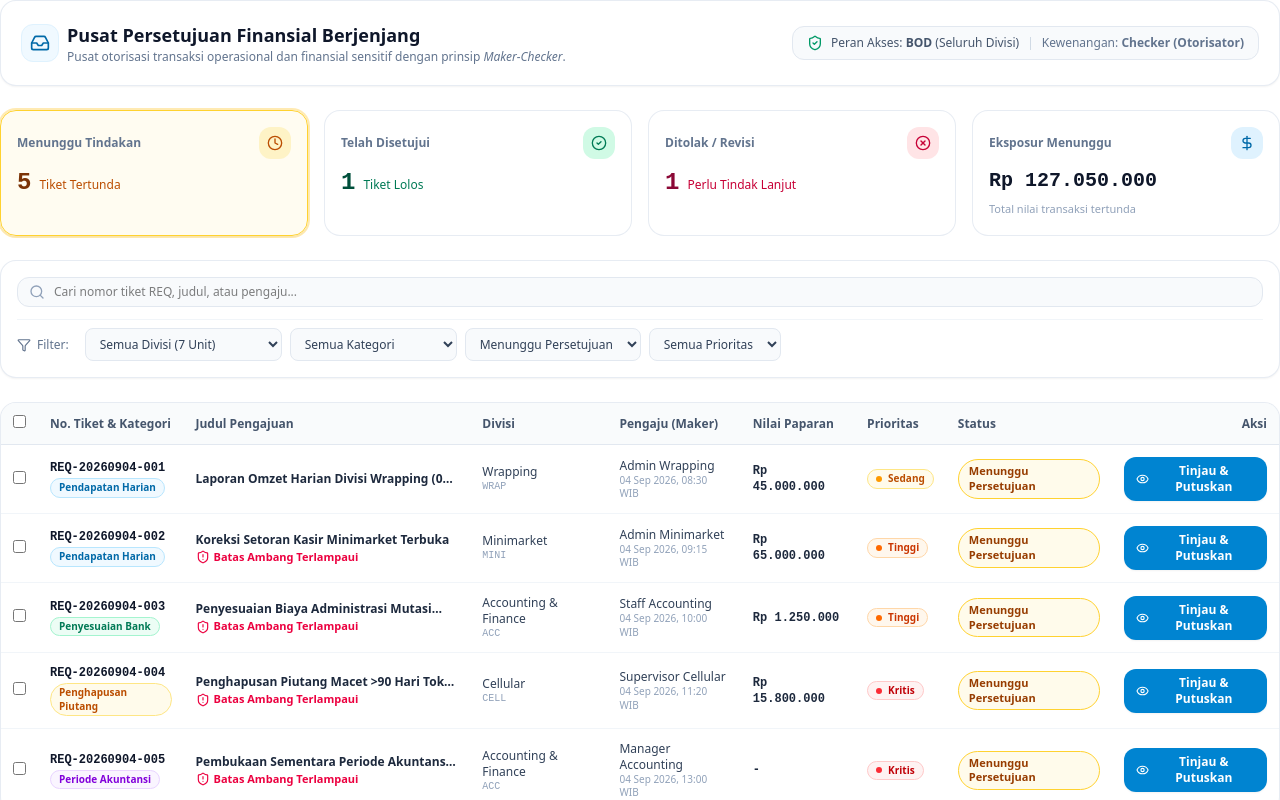
it: Fase 8: Pusat Persetujuan Finansial Berjenjang (ISSUE-26) › ApprovalInboxCentral Component › filters requests by search keyword
Type "Toko Berkah" into the field with test id "approval-search-input" at (640, 292), box [17,277,1263,307]
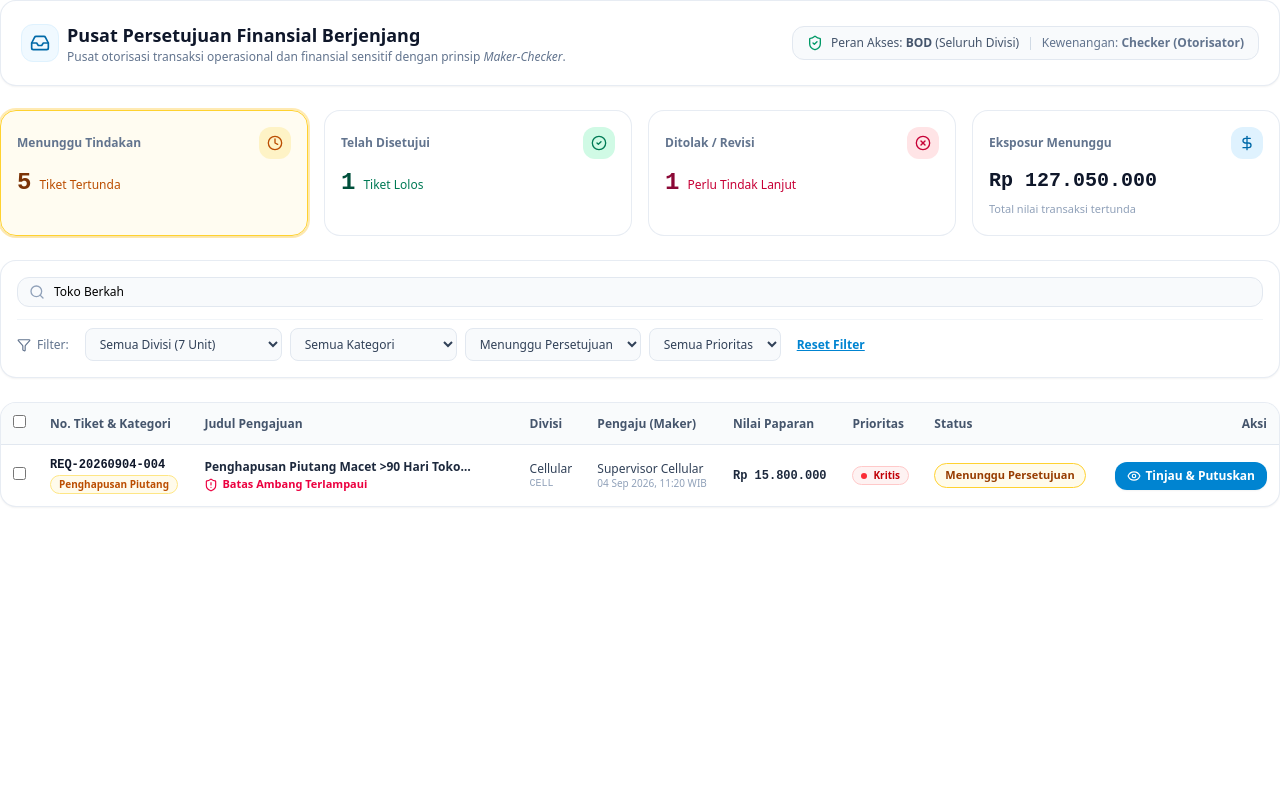
Check: the text "REQ-20260904-004" is shown, box [50,457,180,473]
Check: the text "REQ-20260904-001" is gone
